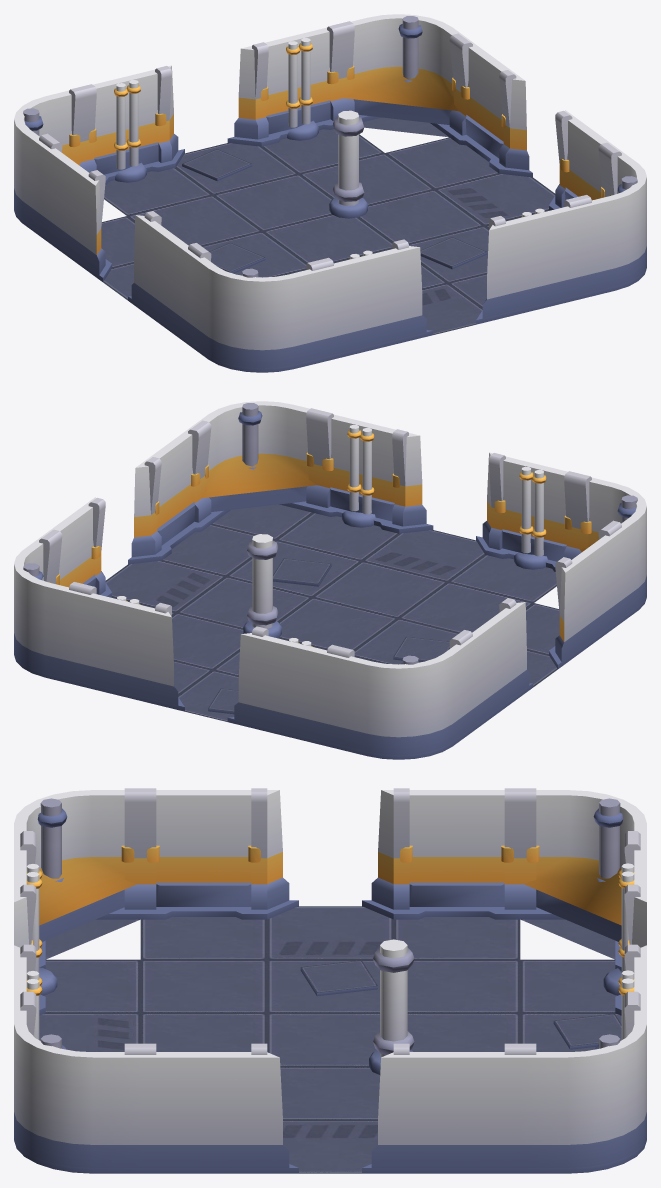
File: kenney-space-modular-room-large.glb
3 renders of one model, top to bottom at view 1: azimuth 30°, elevation 25°; view 2: azimuth 150°, elevation 25°; view 3: azimuth 270°, elevation 25°, orthographic. The views are drawn at different scales.
Parts seen in each view (by area): view 1: room-large; view 2: room-large; view 3: room-large.
Part boxes in pixels (<box>): room-large: <box>14,14,646,372</box>; room-large: <box>14,401,646,759</box>; room-large: <box>14,788,646,1173</box>.
Size of the model in its own units: 20 by 4.25 by 20.
1 material, 1 textured.
